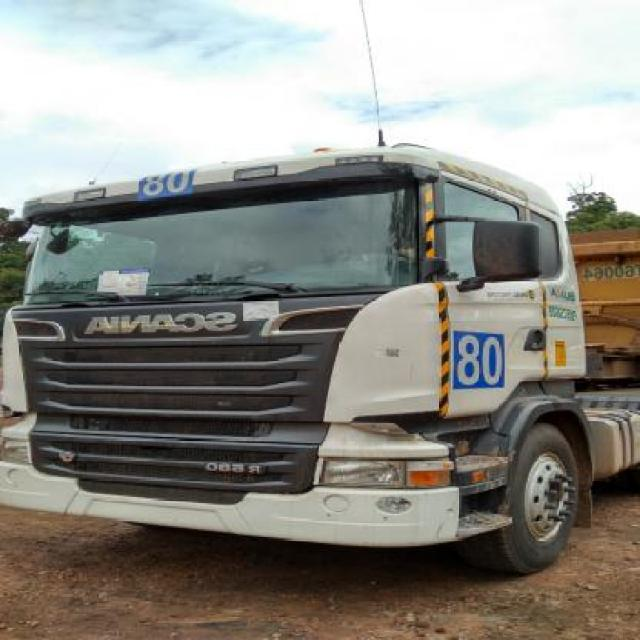truck: (3, 139, 640, 577)
